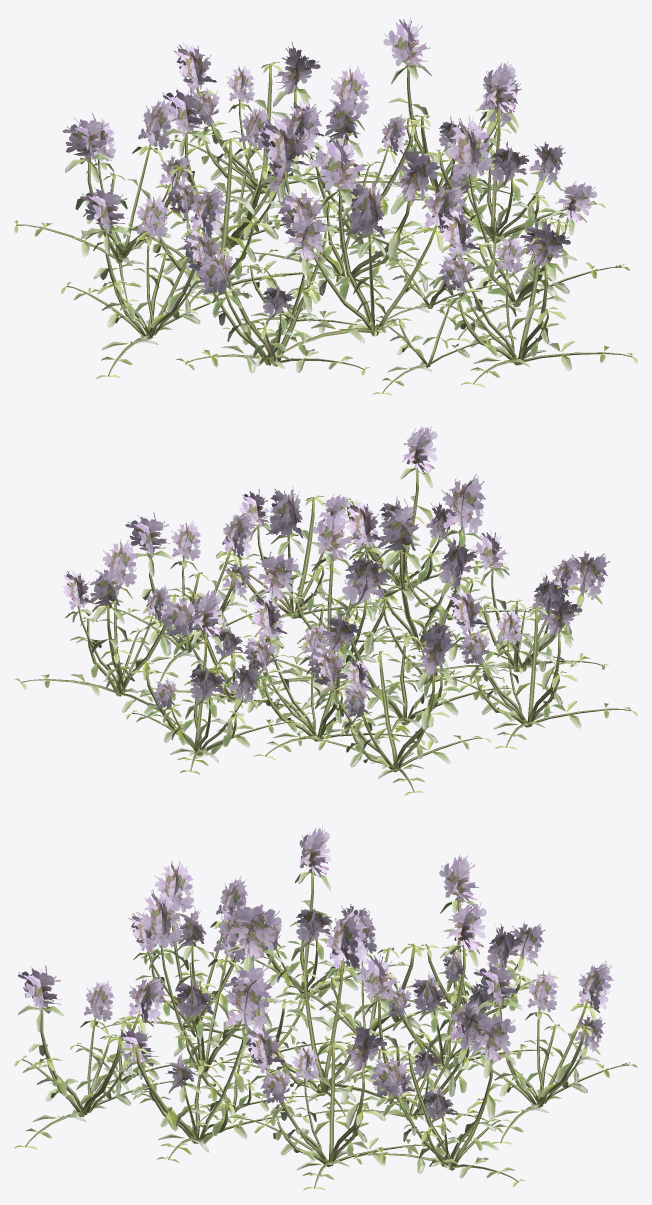
File: flower_pink.glb
The picture shows the model from 3 angles, top to bottom: view 1: azimuth 30°, elevation 25°; view 2: azimuth 150°, elevation 25°; view 3: azimuth 270°, elevation 25°; orthographic projection. The views are drawn at different scales.
Parts seen in each view (by area): view 1: bq_Flower_Thymus-serpyllum_C_summer; view 2: bq_Flower_Thymus-serpyllum_C_summer; view 3: bq_Flower_Thymus-serpyllum_C_summer.
Boxes of the visible parts, x1,y1,x2,y2 form: bq_Flower_Thymus-serpyllum_C_summer: (14,17,637,395); bq_Flower_Thymus-serpyllum_C_summer: (14,426,637,795); bq_Flower_Thymus-serpyllum_C_summer: (14,826,637,1190).
Size of the model in its own units: 0.326 by 0.108 by 0.3416.
2 materials, 2 textured.
